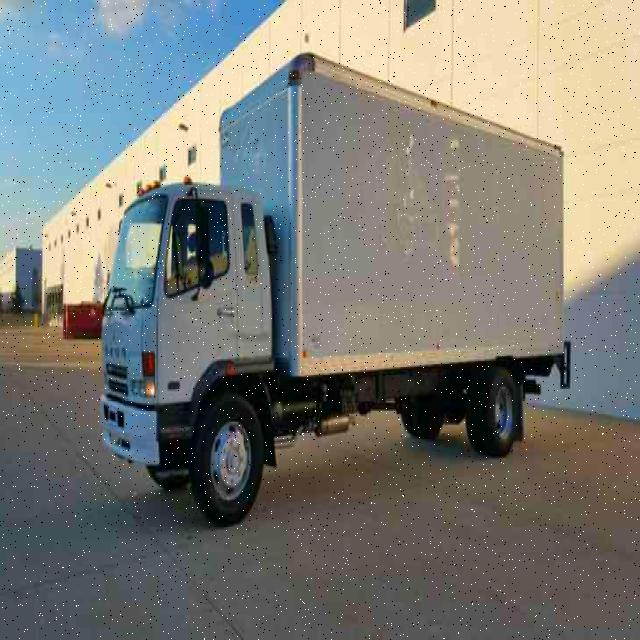truck: (100, 57, 573, 516)
